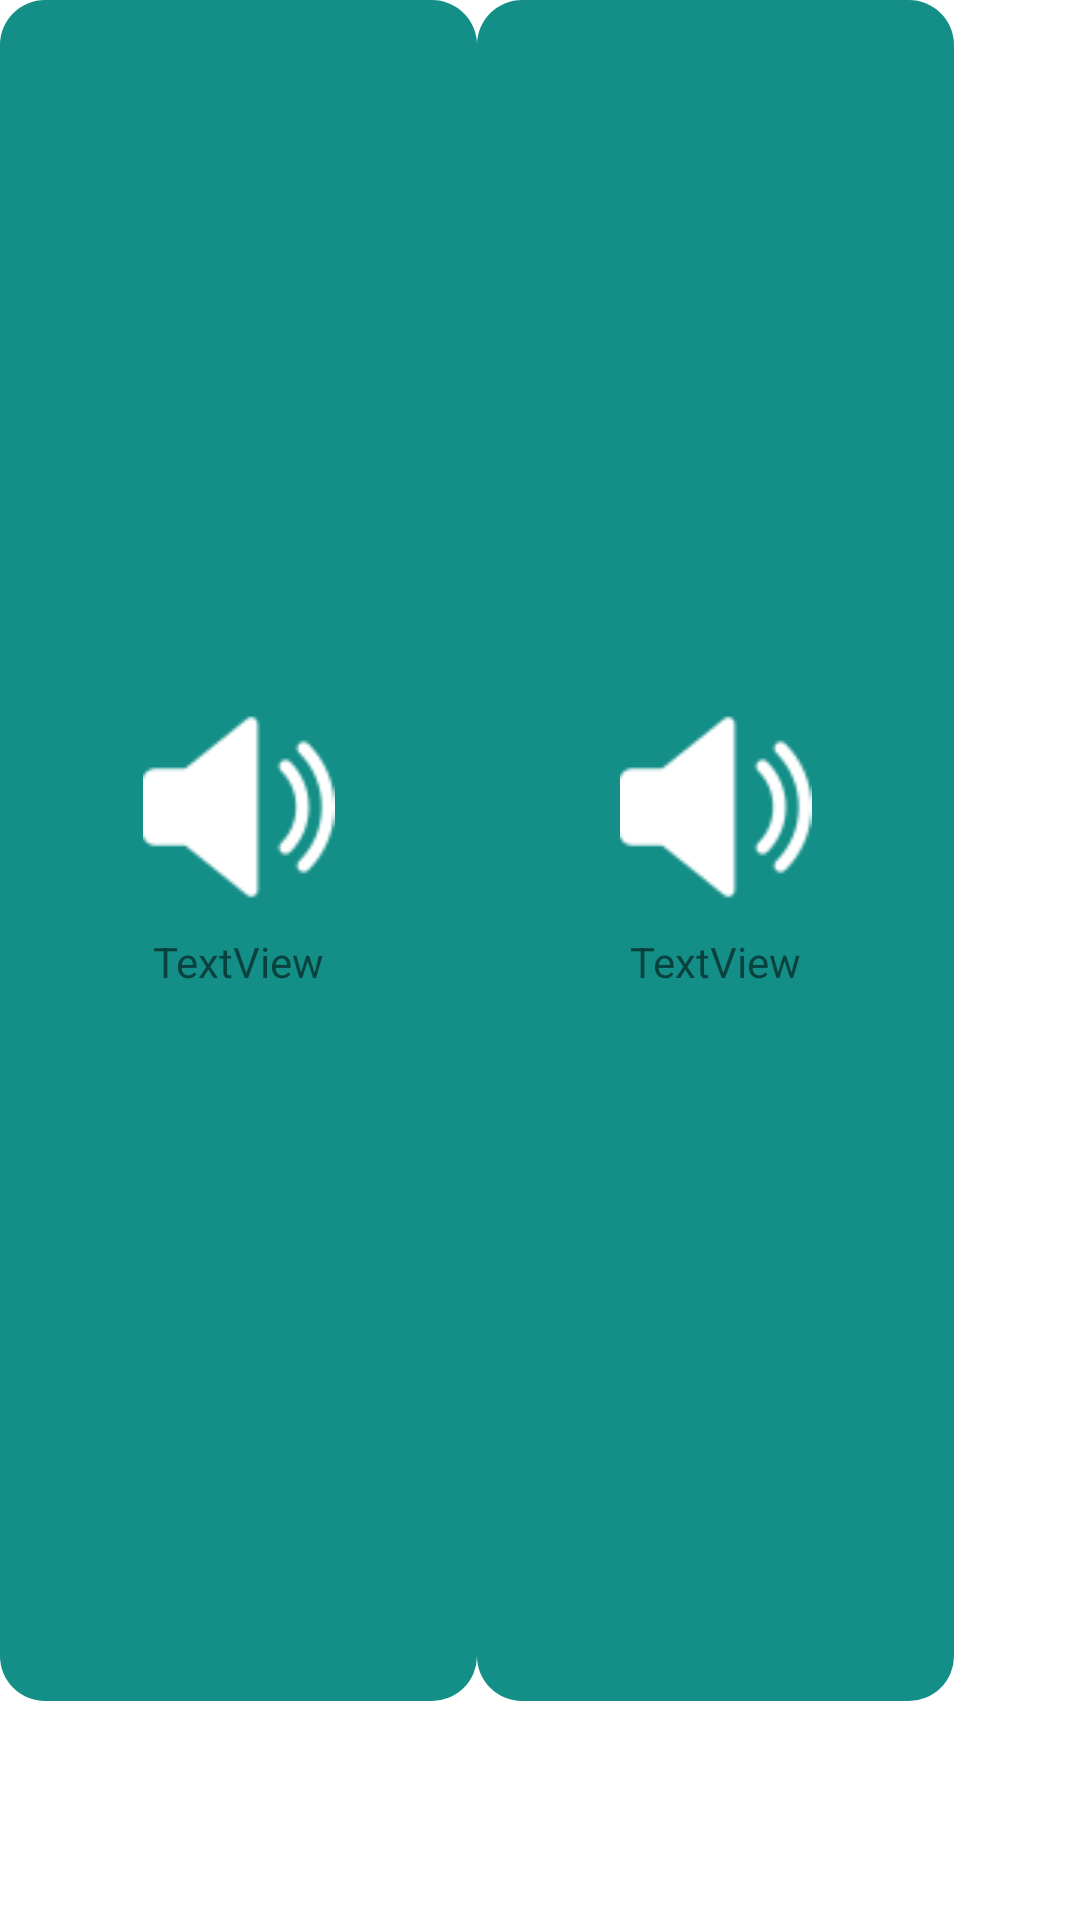

Icons on this 1080x1920 Android screen, each with its box as (x1, y1, x2, y2):
audio player: (143, 716, 335, 898), (620, 716, 812, 898)
